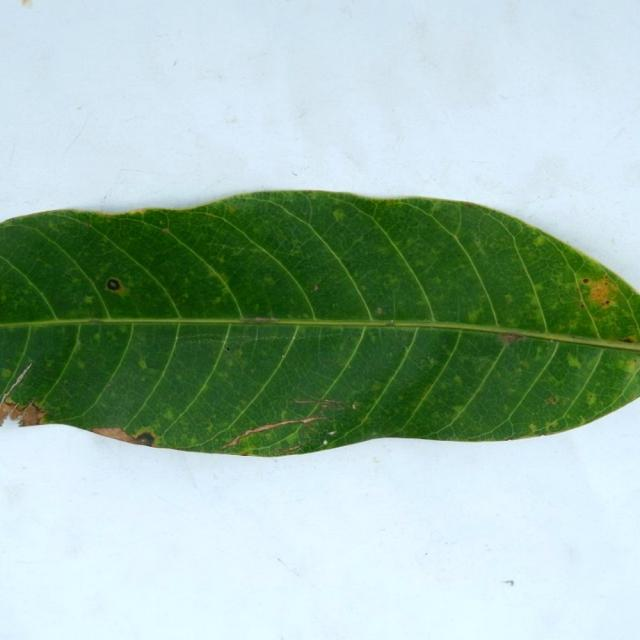Mango: (0, 191, 639, 455)
Powdery_Mildew: (468, 213, 504, 256), (580, 274, 618, 308), (142, 210, 172, 229), (0, 398, 18, 427), (104, 276, 130, 296), (134, 426, 161, 445), (564, 349, 584, 372), (497, 332, 525, 346), (140, 359, 162, 373), (180, 277, 197, 294), (281, 430, 299, 446), (622, 357, 640, 373), (288, 236, 307, 251), (273, 445, 302, 454), (546, 373, 563, 387), (466, 309, 481, 323), (234, 345, 244, 364), (524, 292, 539, 304), (236, 447, 255, 456), (332, 209, 345, 222), (351, 233, 365, 245), (124, 208, 147, 215), (163, 407, 175, 420), (370, 380, 384, 391), (586, 391, 597, 405), (532, 235, 546, 246), (137, 357, 148, 370), (38, 414, 51, 425), (452, 374, 463, 386), (1, 368, 13, 379), (217, 272, 229, 283), (532, 283, 545, 293), (535, 345, 545, 358), (224, 355, 234, 368), (567, 319, 578, 330), (225, 204, 237, 214), (263, 275, 275, 285), (545, 396, 560, 404), (452, 405, 466, 413), (620, 336, 636, 343), (503, 293, 514, 303), (547, 419, 558, 429), (188, 436, 199, 446), (528, 423, 538, 433), (218, 370, 228, 380), (83, 295, 94, 304), (290, 247, 301, 256), (431, 276, 442, 285), (329, 423, 338, 434), (279, 409, 287, 421), (92, 332, 101, 342), (76, 360, 85, 369), (45, 359, 54, 368), (383, 320, 396, 326), (213, 297, 222, 305), (628, 393, 638, 400), (217, 256, 225, 264), (82, 220, 91, 227), (0, 294, 7, 302), (182, 292, 189, 299), (376, 307, 383, 314), (360, 284, 366, 291), (302, 312, 309, 318), (582, 278, 589, 284), (428, 357, 435, 363), (604, 277, 609, 285), (352, 403, 358, 409), (314, 284, 319, 291), (105, 382, 112, 387), (76, 105, 82, 110), (77, 340, 82, 346), (580, 303, 585, 308), (225, 346, 230, 351)
